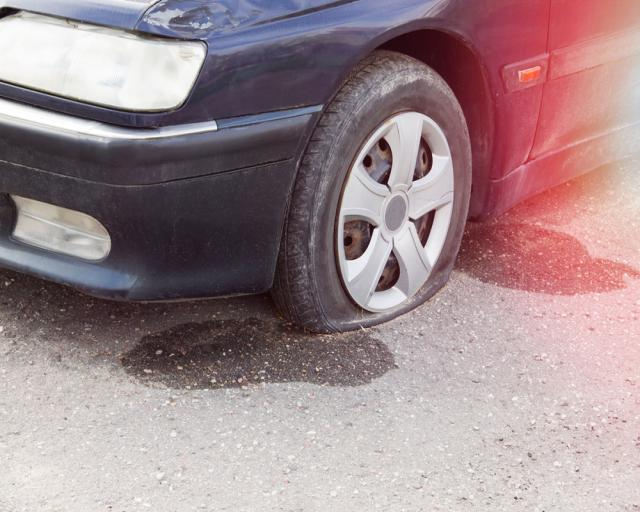scratch: (142, 0, 268, 33)
tire flat: (269, 51, 474, 333)
